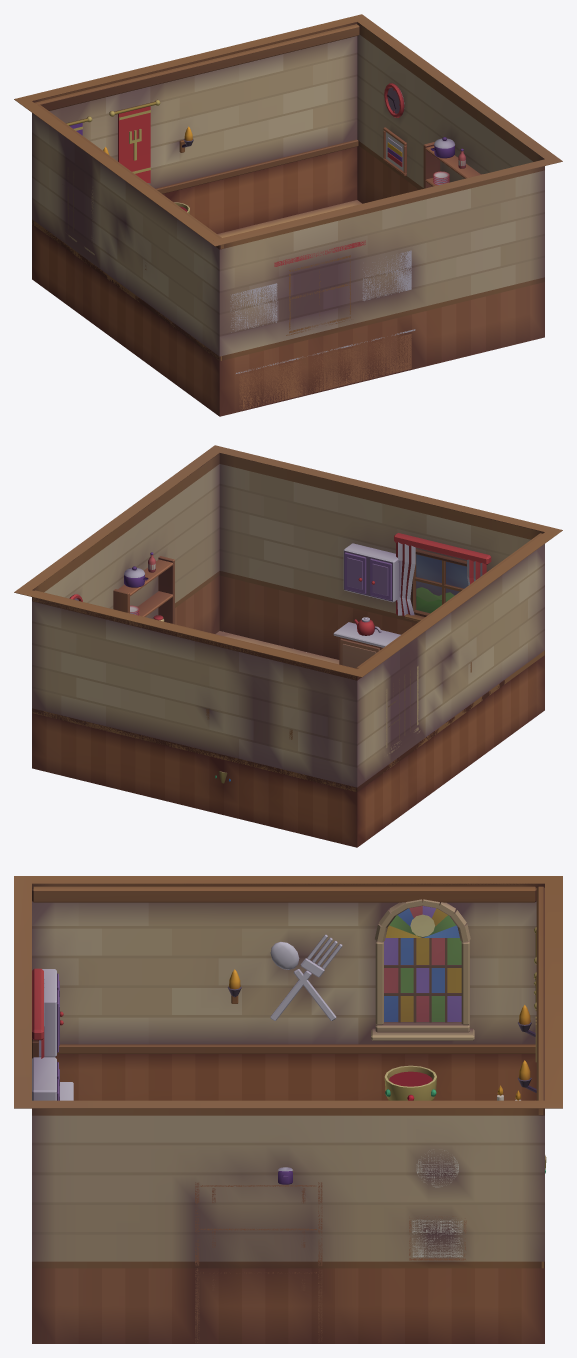
The picture shows the model from 3 angles, top to bottom: view 1: azimuth 30°, elevation 25°; view 2: azimuth 150°, elevation 25°; view 3: azimuth 270°, elevation 25°; orthographic projection. The views are drawn at different scales.
Parts seen in each view (by area): view 1: back, room, table; view 2: room, back, table; view 3: back, room, props.
Boxes of the visible parts, x1=… form: back: x1=208, y1=14, x2=562, y2=416; room: x1=14, y1=17, x2=359, y2=416; table: x1=217, y1=200, x2=361, y2=237; room: x1=25, y1=532, x2=556, y2=847; back: x1=14, y1=445, x2=562, y2=668; table: x1=215, y1=631, x2=339, y2=664; back: x1=14, y1=876, x2=562, y2=1343; room: x1=32, y1=876, x2=562, y2=1268; props: x1=384, y1=1065, x2=546, y2=1173.
Bounding box in the file's own units: 9.2 × 4.5 × 9.2.
